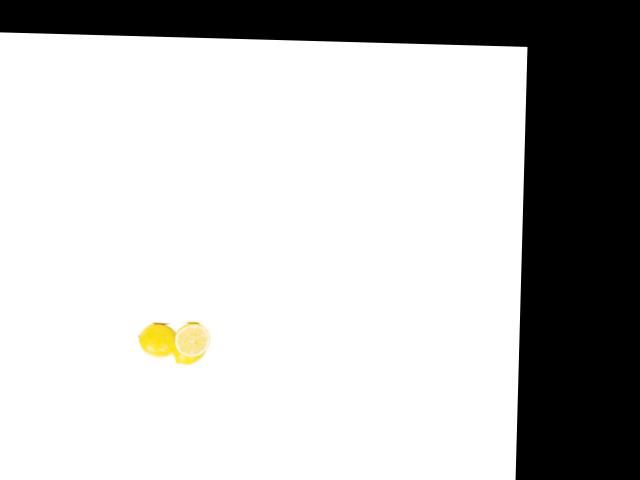lemon: (170, 331, 214, 368)
